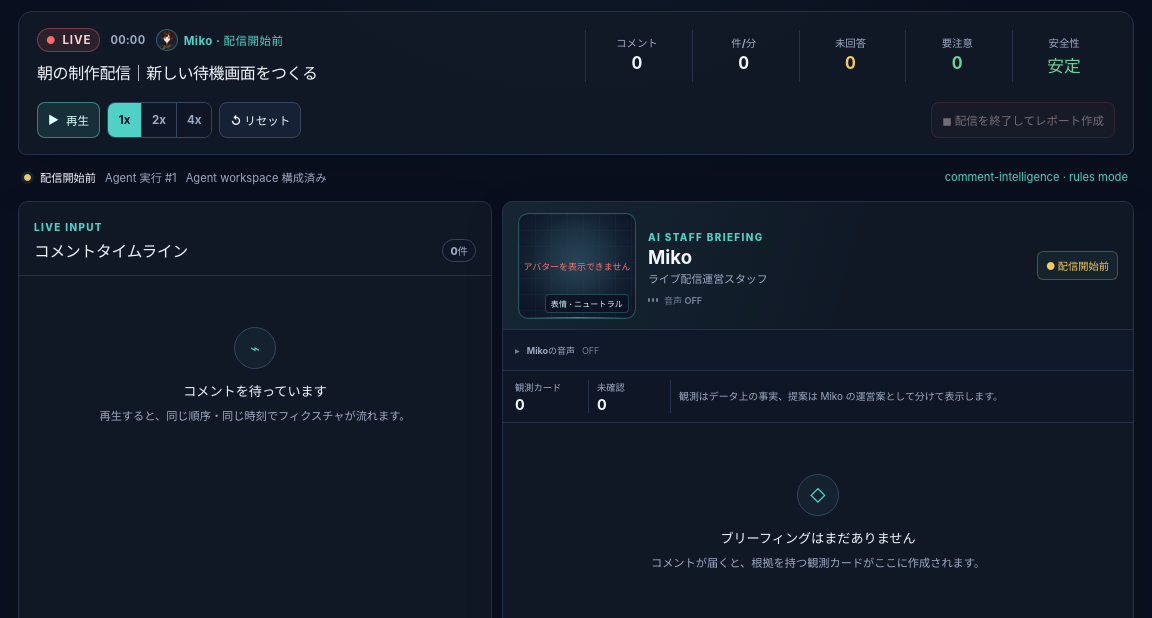
Test: stream operations fixture playback › completes all fixture comments and creates the report
Expected: the button "◼ 配信を終了してレポート作成" is disabled, [931,102,1115,138]
Click the button "4x" at (194, 120), box [177,103,212,137]
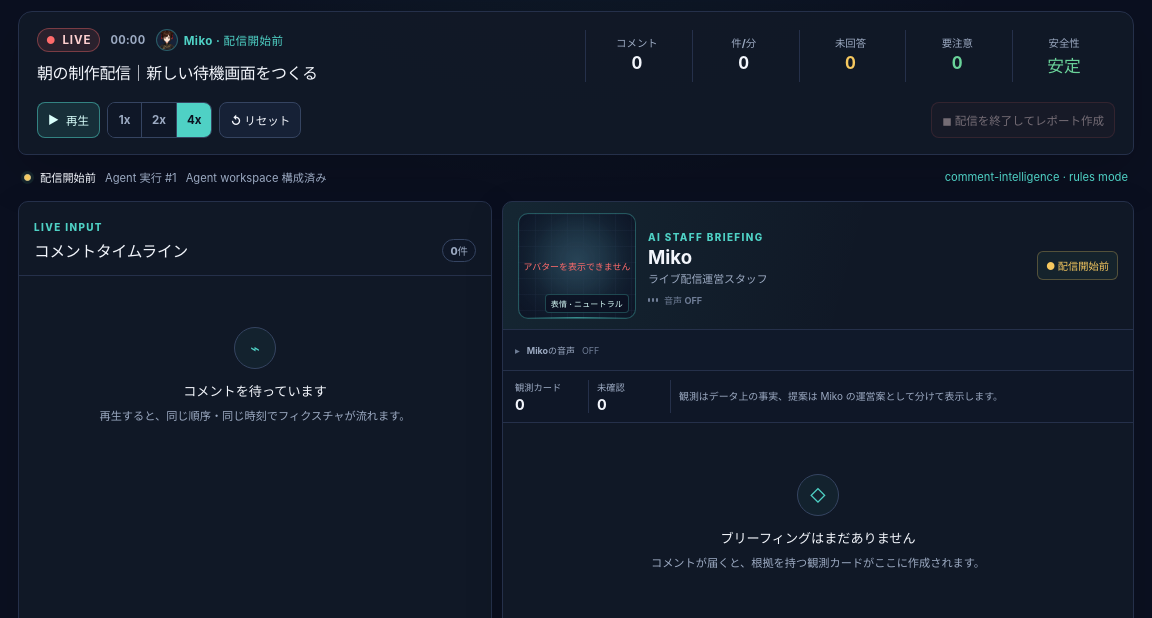
Click the button "▶ 再生" at (68, 120), box [37,102,100,138]
Wait 7200 ms
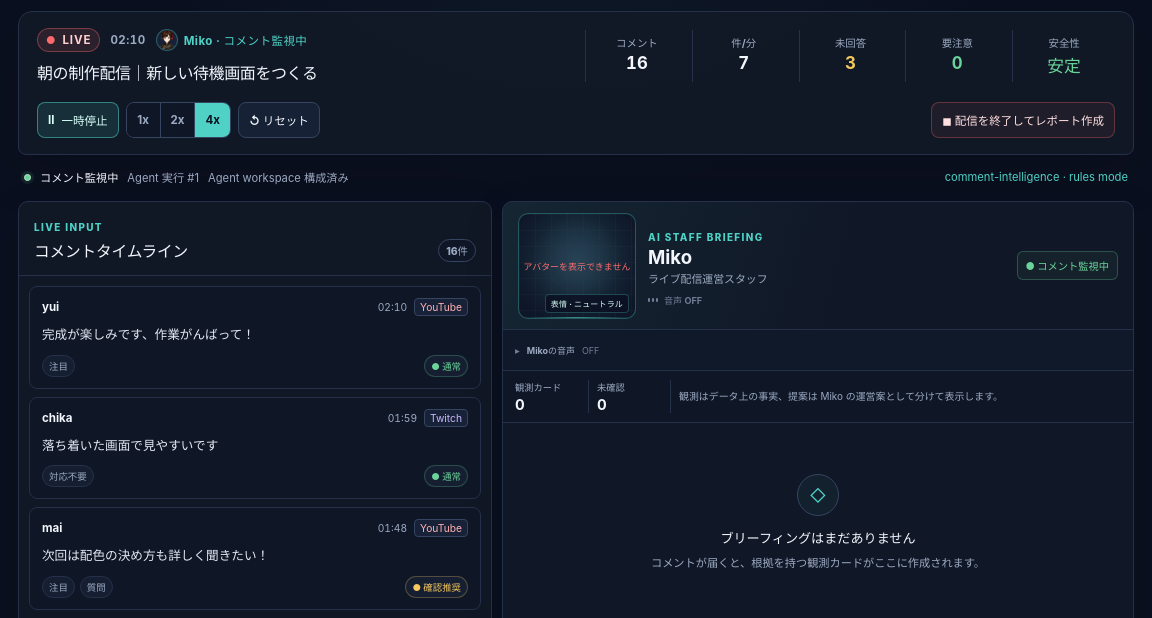
Now the text with class "count-badge" reads "16件", box [446,245,468,258]
Now the button "◼ 配信を終了してレポート作成" is enabled
Click the button "◼ 配信を終了してレポート作成" at (1023, 120), box [931,102,1115,138]
Wait 1200 ms
(page scrolled)
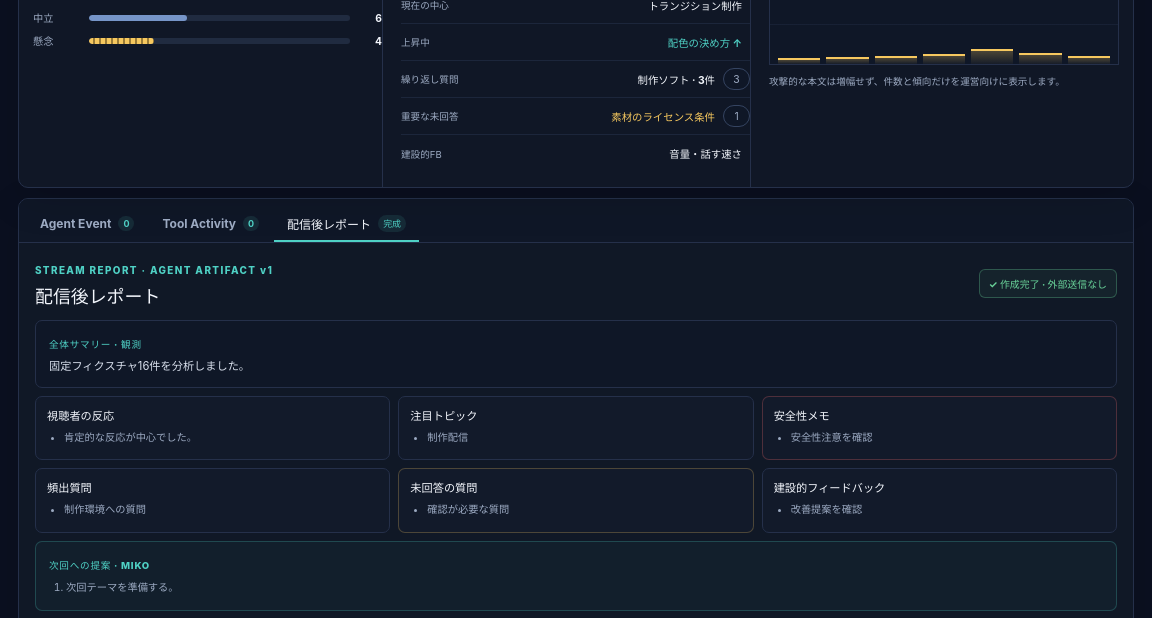
Now the element with class "overall-summary" shows "固定フィクスチャ16件を分析", box [49,359,250,373]
